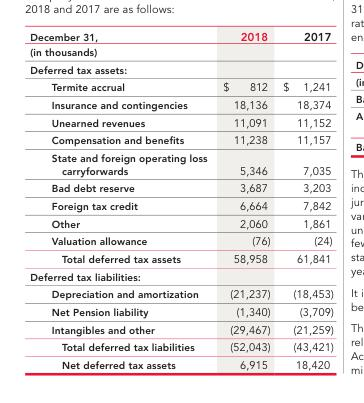table: (29, 28, 332, 371)
table column: (29, 28, 214, 371), (214, 28, 275, 371), (275, 28, 332, 371)
table column header: (29, 28, 332, 44)
table projected row header: (29, 60, 332, 78), (29, 267, 332, 285), (29, 44, 332, 60)
table row: (29, 149, 332, 179), (29, 60, 332, 78), (29, 95, 332, 113), (29, 113, 332, 131), (29, 131, 332, 149), (29, 179, 332, 197), (29, 214, 332, 232), (29, 232, 332, 250), (29, 267, 332, 285), (29, 285, 332, 303), (29, 320, 332, 338), (29, 338, 332, 356), (29, 78, 332, 95), (29, 197, 332, 214), (29, 250, 332, 267), (29, 303, 332, 320), (29, 28, 332, 44), (29, 44, 332, 60), (29, 356, 332, 371)
